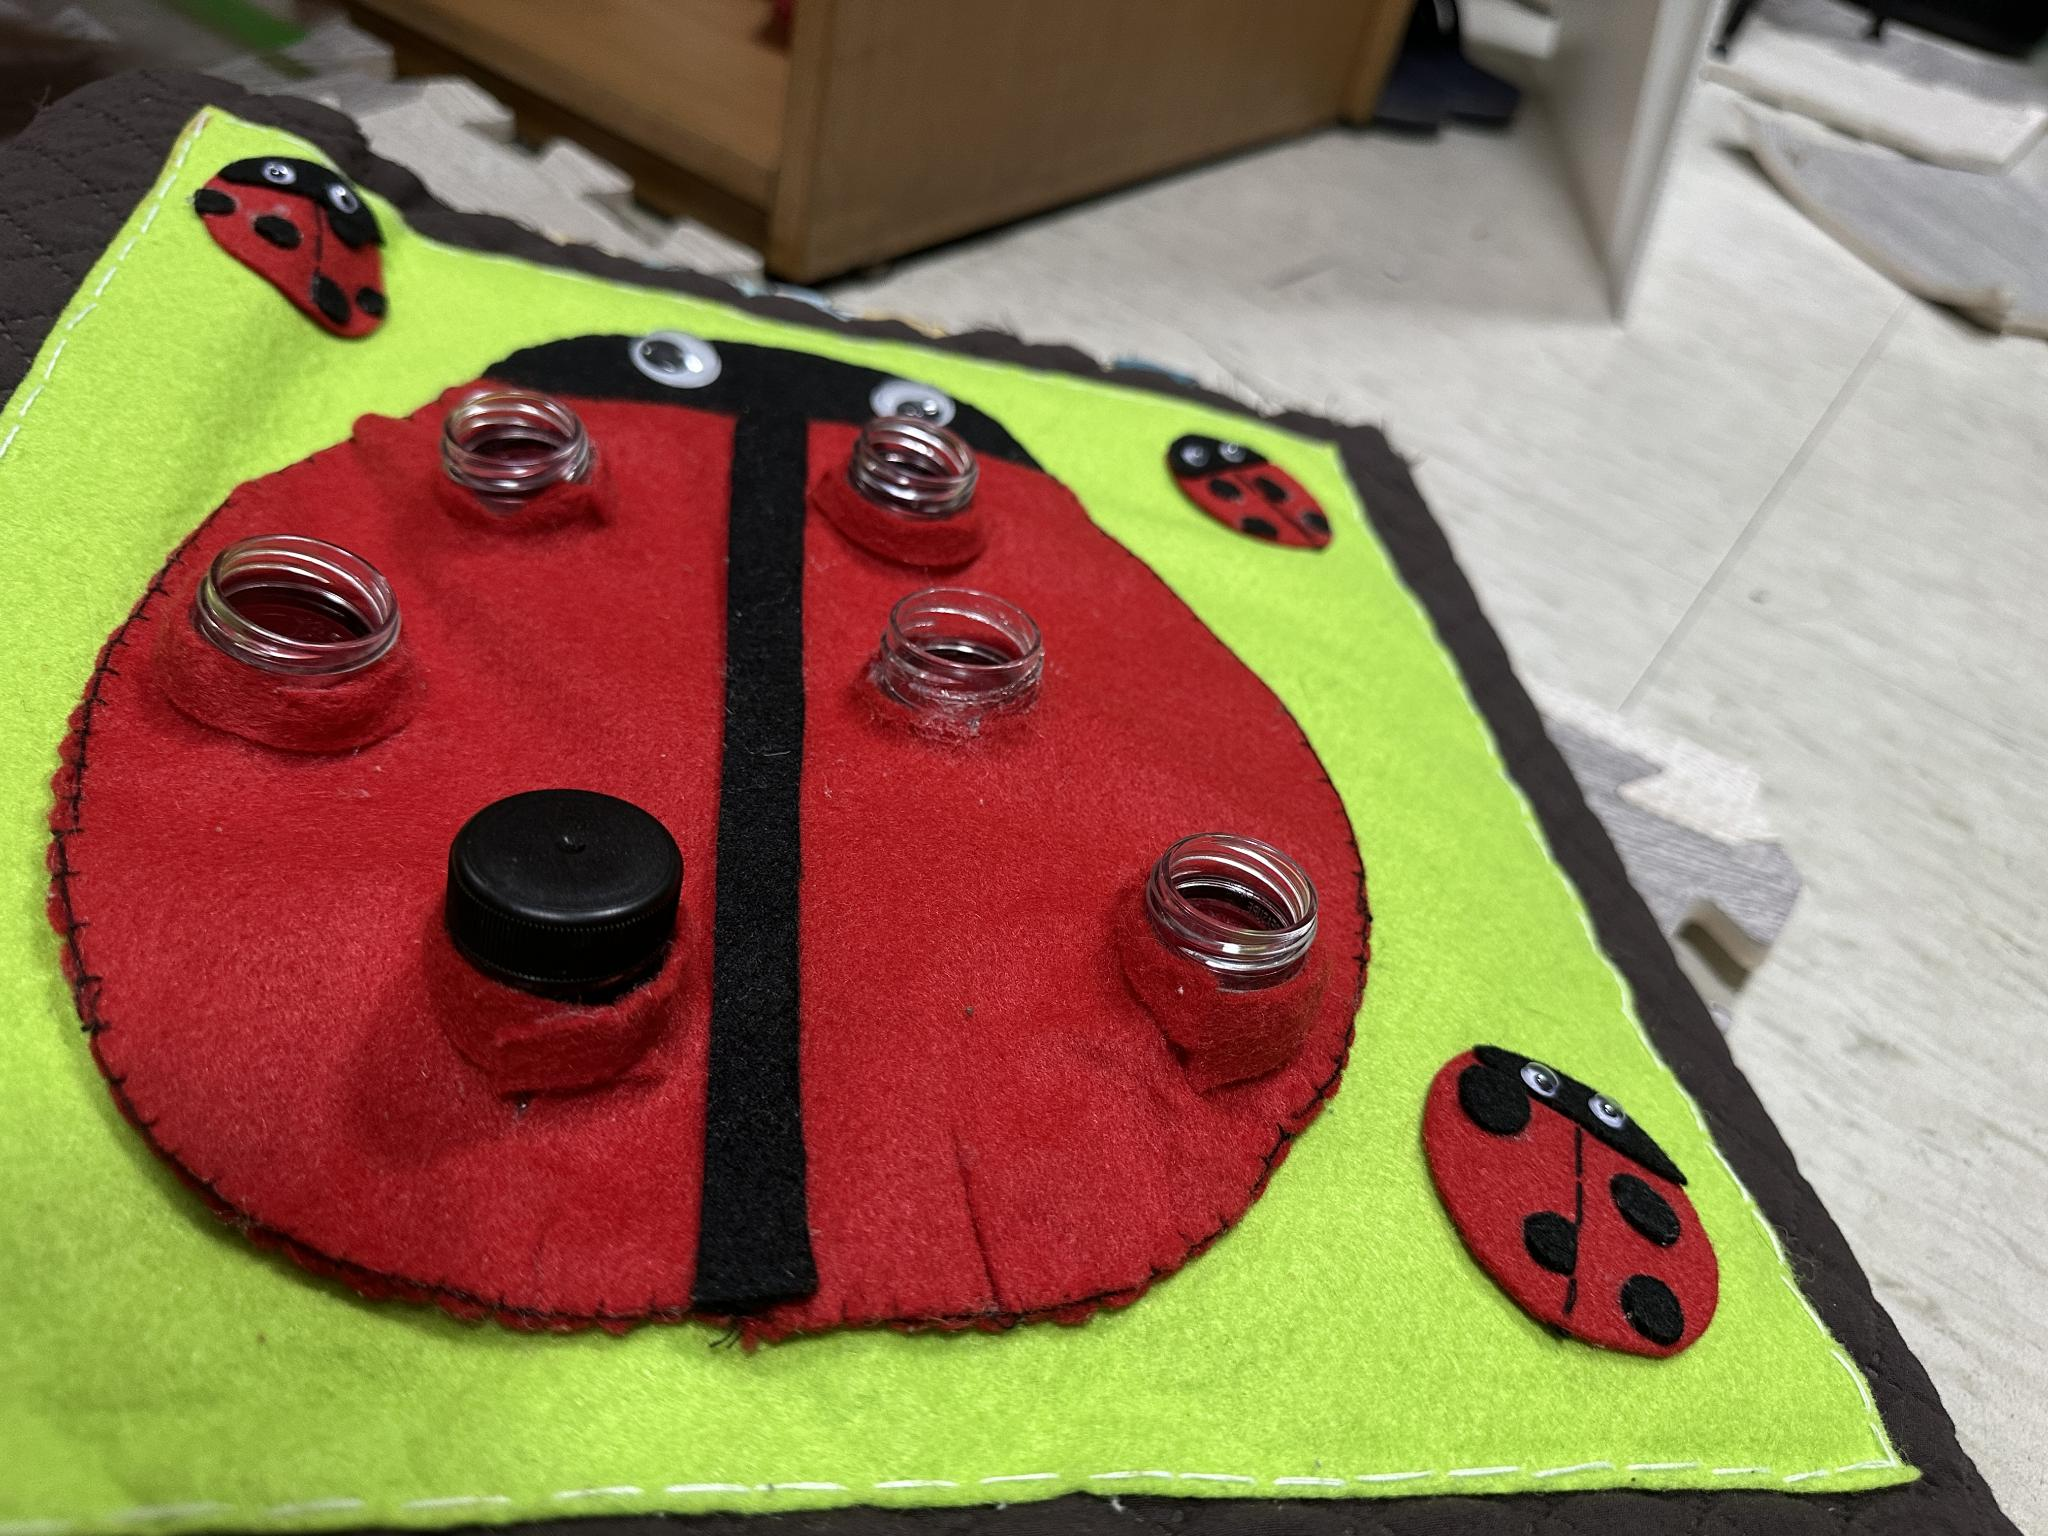cap_ok: (402, 763, 729, 1104)
